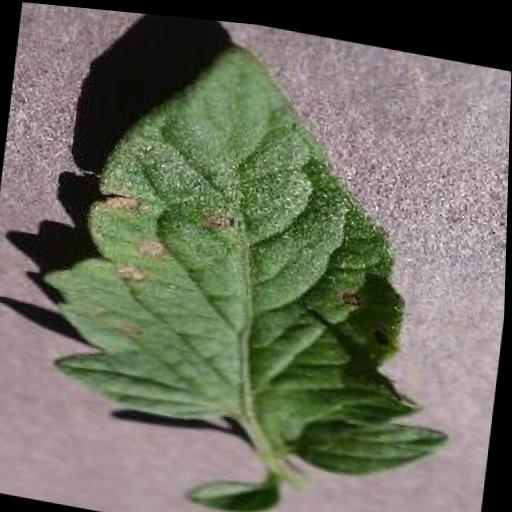Early Blight: (26, 13, 490, 488)
